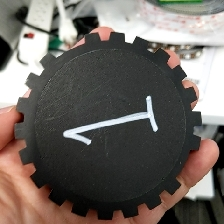gear: (12, 30, 203, 222)
missing: (40, 30, 102, 71), (164, 133, 203, 198)
